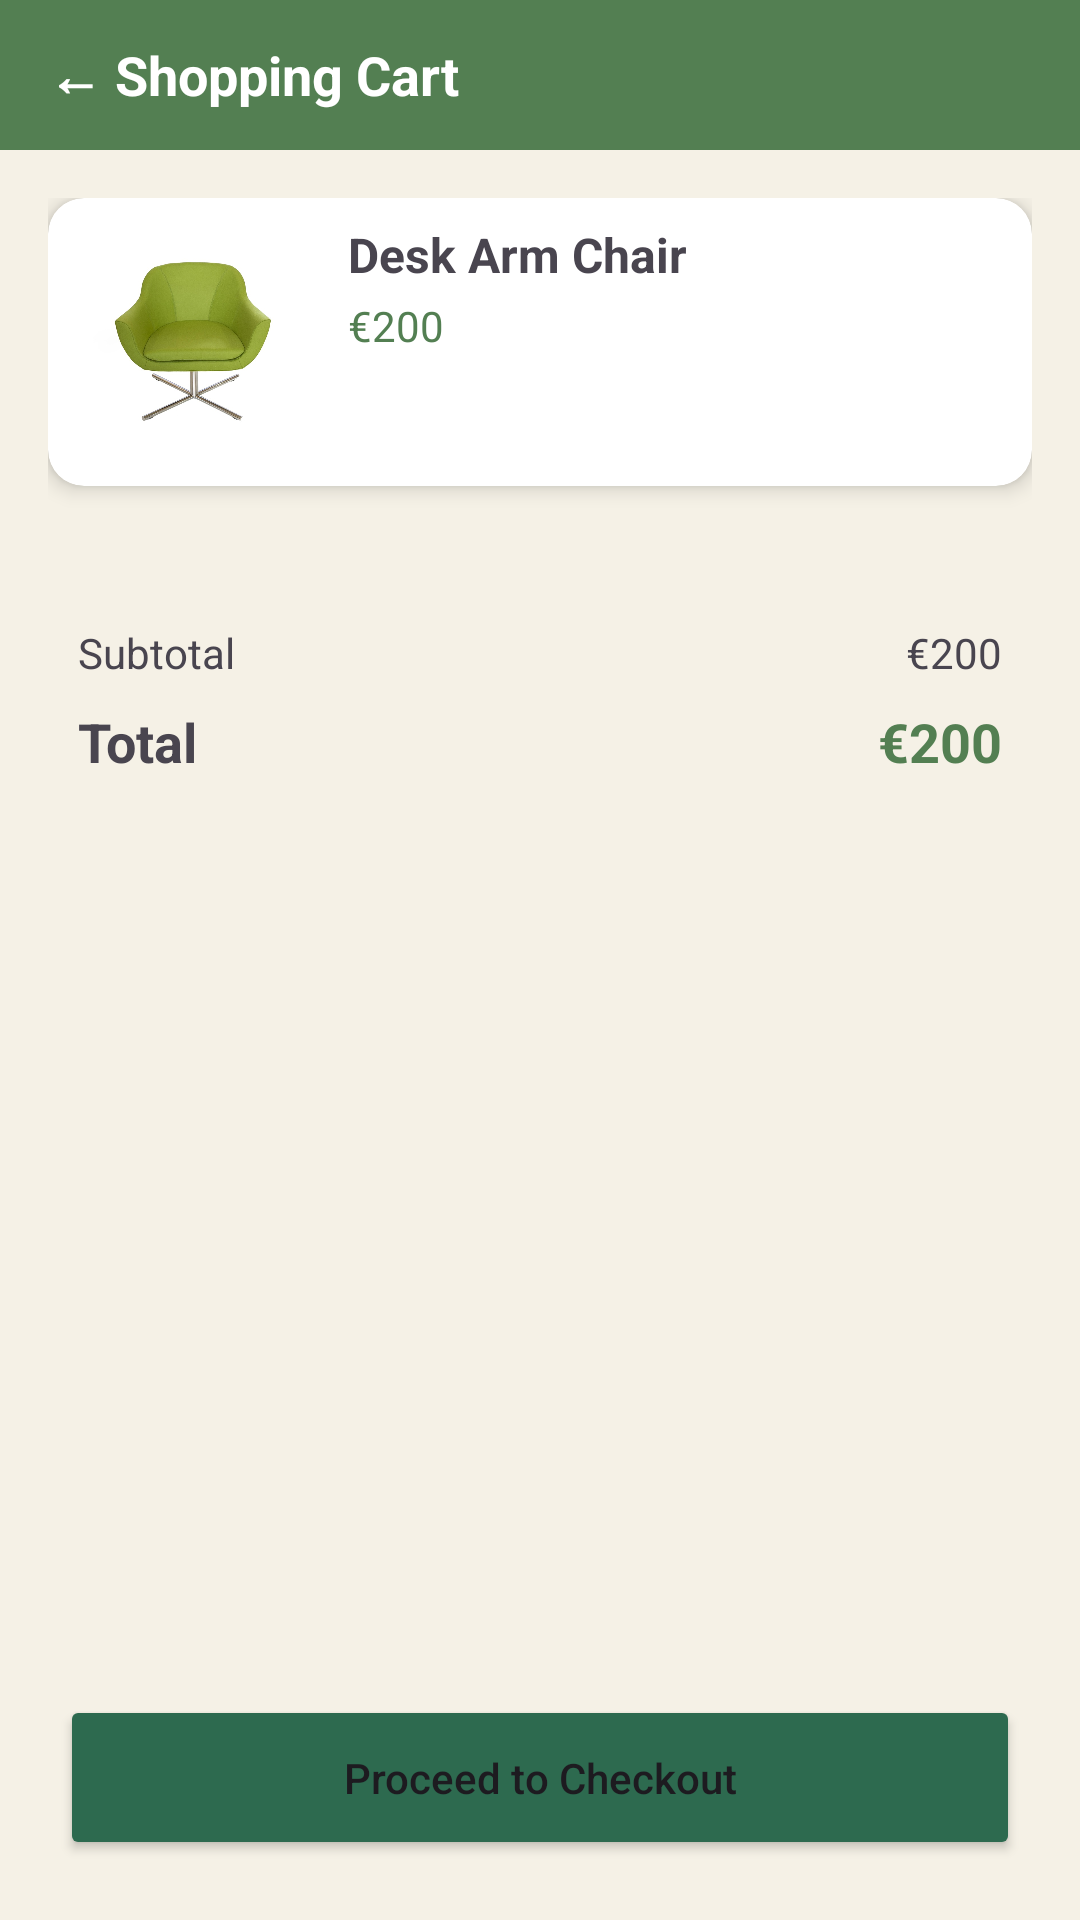

Icons on this 1080px x 1920px Android screen, each with its box as (x1, y1, x2, y2):
chairs: (115, 262, 271, 421)
